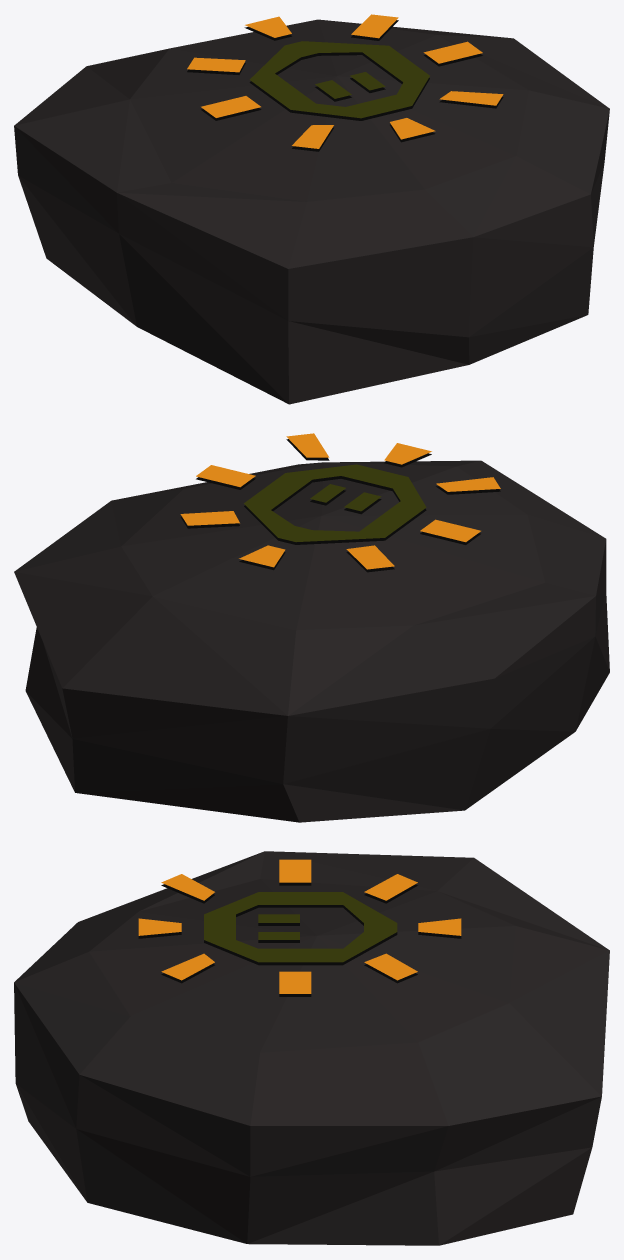
The model's file is obj_altar_3_0.obj.
3 renders of one model, top to bottom at view 1: azimuth 30°, elevation 25°; view 2: azimuth 150°, elevation 25°; view 3: azimuth 270°, elevation 25°, orthographic. The views are drawn at different scales.
Size of the model in its own units: 2.84 by 1.21 by 2.91.
